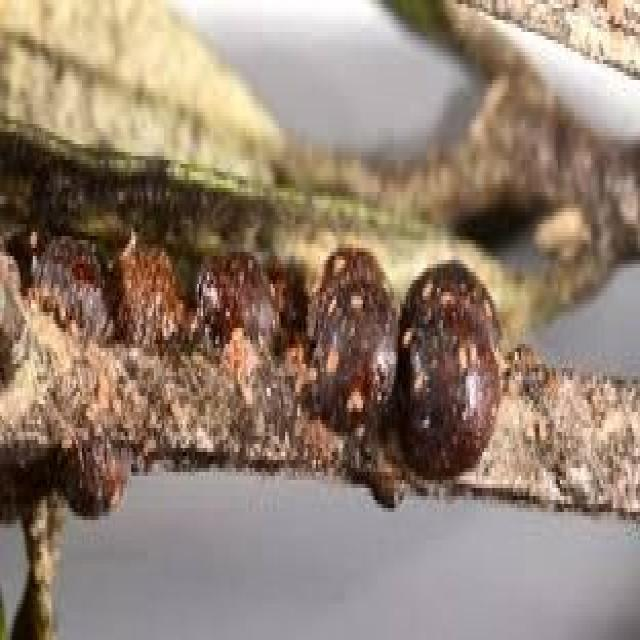BlackScale: (307, 244, 498, 480), (195, 248, 286, 348), (33, 232, 113, 340), (112, 228, 186, 344), (62, 436, 130, 516)
